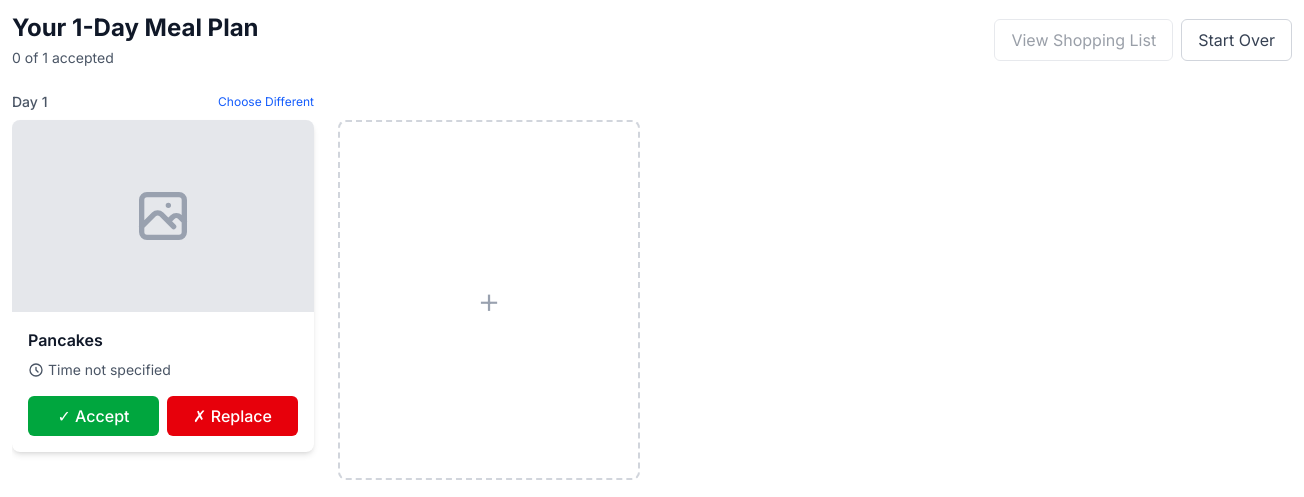
Test: MealPlanView trailing add-recipe tile › clears the add-recipe error when the user cancels out of the selector
The width and height of the screenshot is (1304, 497).
Click the button named "add a recipe" at coordinates (489, 300), box [338,120,640,480]
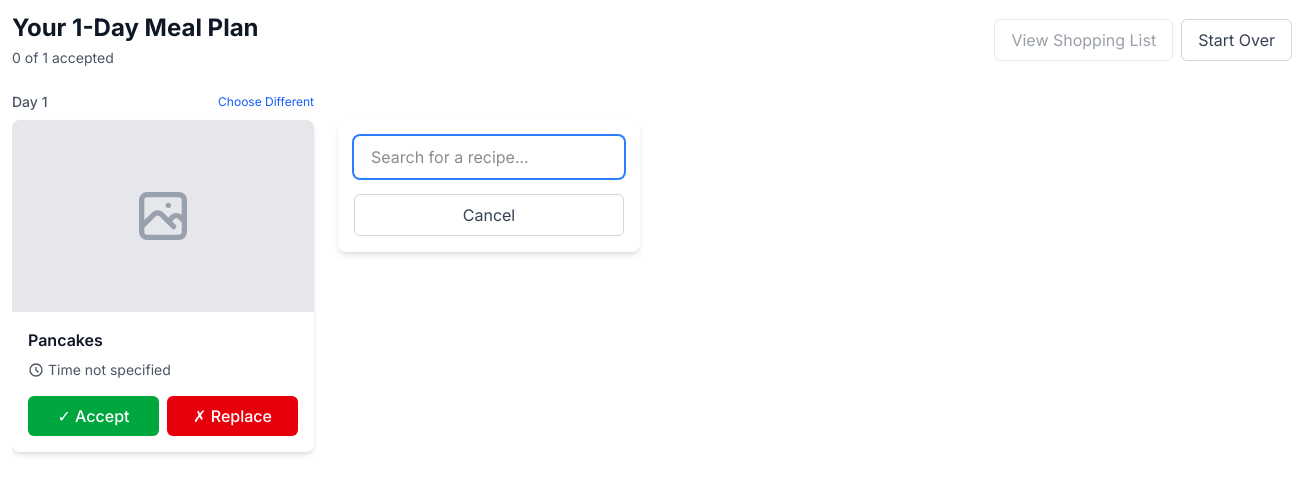
Type "French" into the field with placeholder "Search for a recipe..." at coordinates (489, 157), box [354,136,624,178]
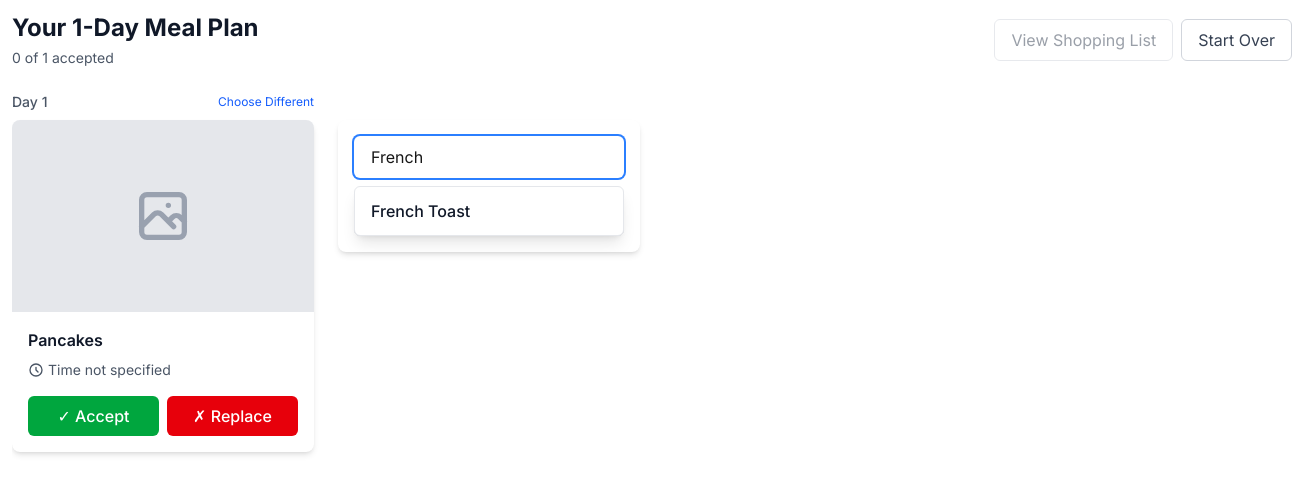
Expected: the text "French Toast" is shown, [371,201,470,221]
Click the button "French Toast" at coordinates (421, 211), box [355,187,623,235]
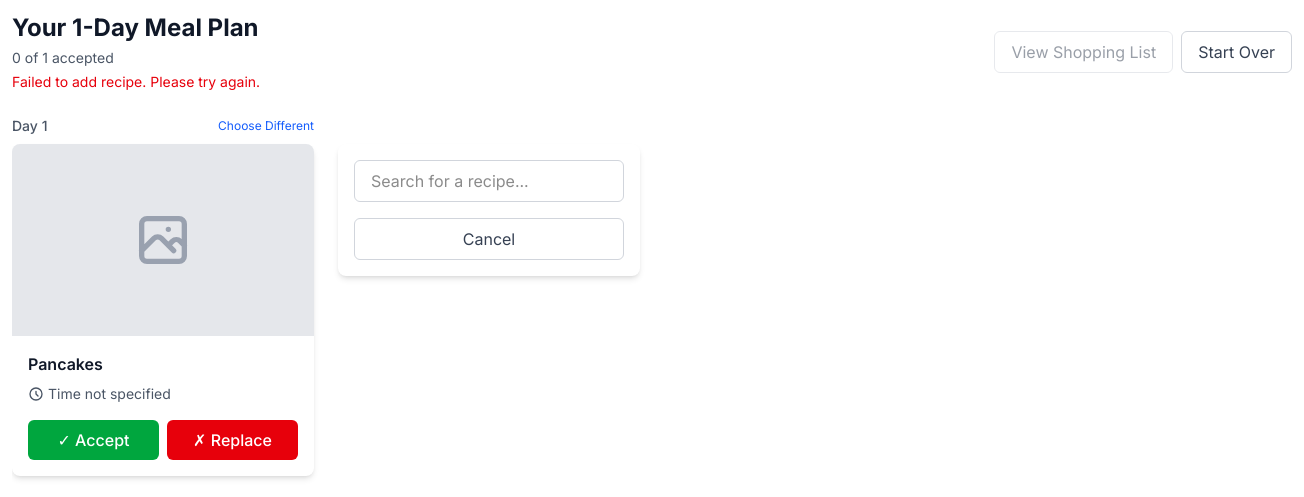
Expected: the message "Failed to add recipe. Please try again." is shown, [12,72,260,92]
Click the button "Cancel" at coordinates (489, 239), box [354,218,624,260]
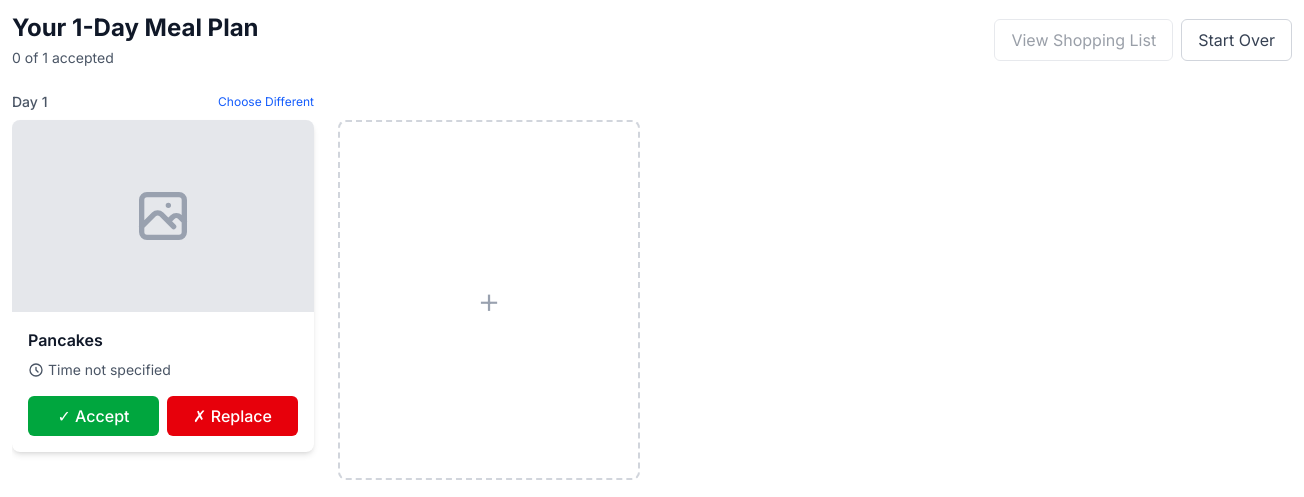
Expected: the message "Failed to add recipe. Please try again." is gone
